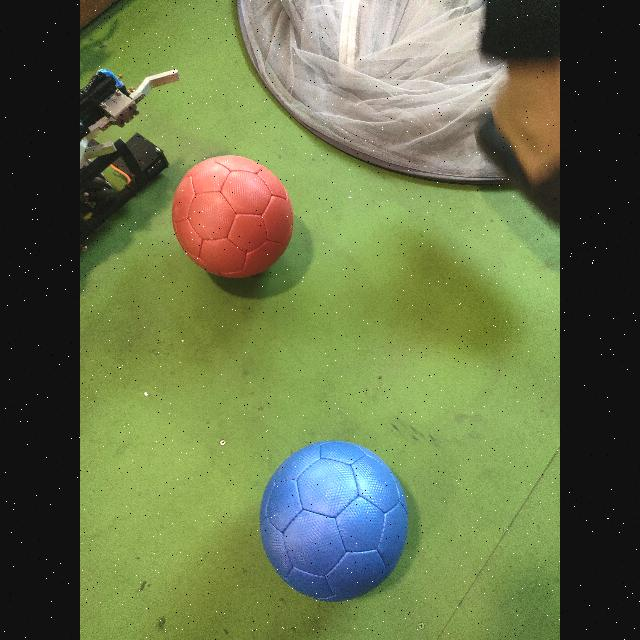B: (258, 440, 412, 605)
R: (171, 155, 294, 282)
